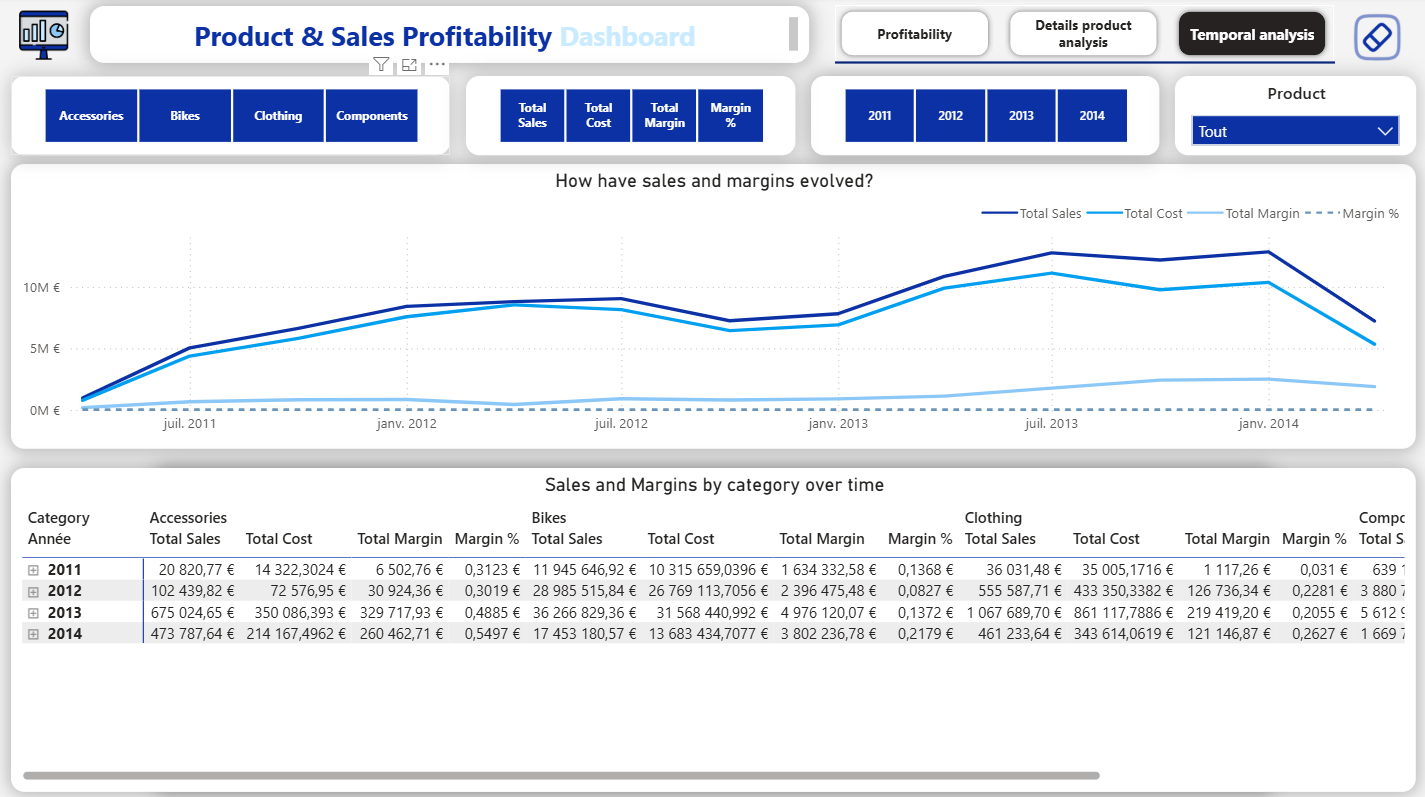

What the dashboard file says about the page in this screenshot:
{"tool":"powerbi","page":{"name":"Temporal analysis","canvas":[1280,720],"ordinal":2},"visuals":[{"type":"pivotTable","title":"Sales and Margins by category over time","fields":{"Rows":["ProductProfitability.OrderDate.Variation.Hiérarchie de dates.Année","ProductProfitability.OrderDate.Variation.Hiérarchie de dates.Mois"],"Columns":["ProductProfitability.Category"],"Values":["ProductProfitability.Total Sales","ProductProfitability.Total Margin"]},"box":[139.8,421.4,1001.3,289.9],"z":1000},{"type":"textbox","box":[81.5,8.1,643.9,51],"z":5000},{"type":"pageNavigator","box":[749.1,6.9,447.1,51.3],"z":6000},{"type":"shape","box":[748.7,46.6,447.8,24.2],"z":7000},{"type":"image","box":[0,6.9,80.9,54.3],"z":8000},{"type":"image","box":[1188.6,7.8,91.4,56.4],"z":9000},{"type":"lineChart","title":"How have sales and margins evolved?","fields":{"Category":["ProductProfitability.OrderDate.Variation.Hiérarchie de dates.Année","ProductProfitability.OrderDate.Variation.Hiérarchie de dates.Trimestre","ProductProfitability.OrderDate.Variation.Hiérarchie de dates.Mois"],"Y":["ProductProfitability.Total Sales","ProductProfitability.Total Cost","ProductProfitability.Total Margin","ProductProfitability.Margin %"]},"box":[63.4,154.8,1153.2,255.4],"z":10000},{"type":"slicer","fields":{"Values":["Paramètre utilisateur.Paramètre utilisateur"]},"box":[792.4,176.2,424.2,50.3],"z":11000},{"type":"slicer","title":"Category","fields":{"Values":["ProductProfitability.Category"]},"box":[21.4,70.9,406.5,70.9],"z":11001},{"type":"slicer","fields":{"Values":["ProductProfitability.OrderDate.Variation.Hiérarchie de dates.Année"]},"box":[511.3,70.9,355.2,70.9],"z":11002},{"type":"slicer","title":"Product","fields":{"Values":["ProductProfitability.ProductName"]},"box":[950,70.9,302.1,70.9],"z":11003}]}

Visuals, with their boxes in screenshot pixels (x1, y1, x2, y2), scaled from the page's 1280x720 canvas onto the 1425x797 screenshot:
"Sales and Margins by category over time" pivotTable: (156,466,1270,787)
textbox: (91,9,808,65)
pageNavigator: (834,8,1332,64)
shape: (834,52,1332,78)
image: (0,8,90,68)
image: (1323,9,1424,71)
"How have sales and margins evolved?" lineChart: (71,171,1354,454)
slicer - Paramètre utilisateur.Paramètre utilisateur: (882,195,1354,251)
"Category" slicer: (24,78,476,157)
slicer - ProductProfitability.OrderDate.Variation.Hiérarchie de dates.Année: (569,78,965,157)
"Product" slicer: (1058,78,1394,157)
